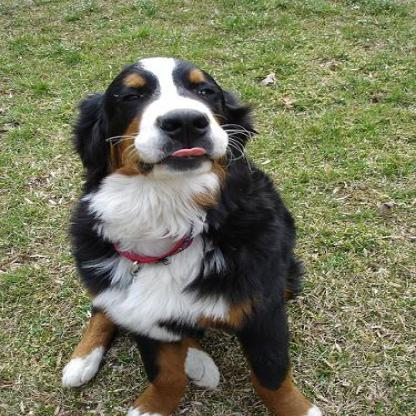Bernese_mountain_dog: (61, 55, 321, 413)
